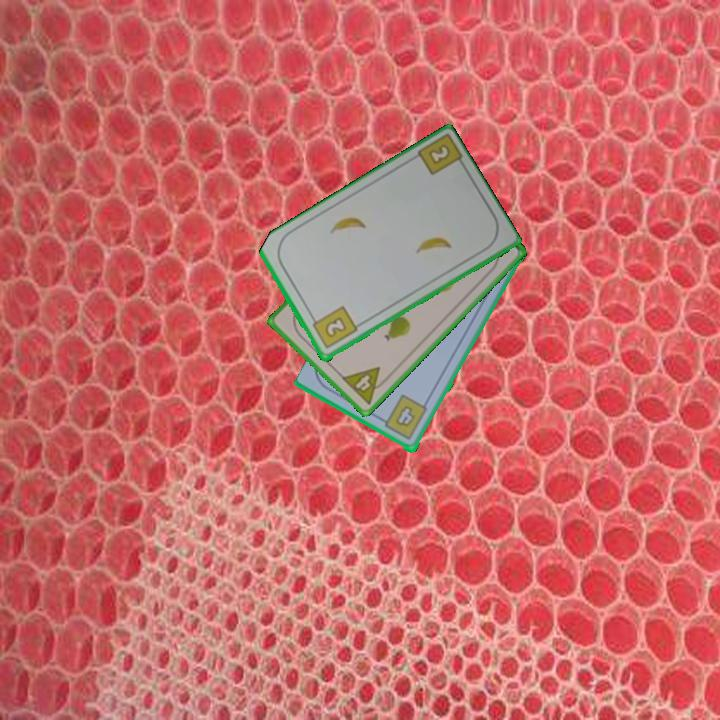2b: (308, 303, 360, 352), (425, 141, 453, 168)
4b: (377, 392, 430, 443)
4p: (338, 363, 393, 408)
